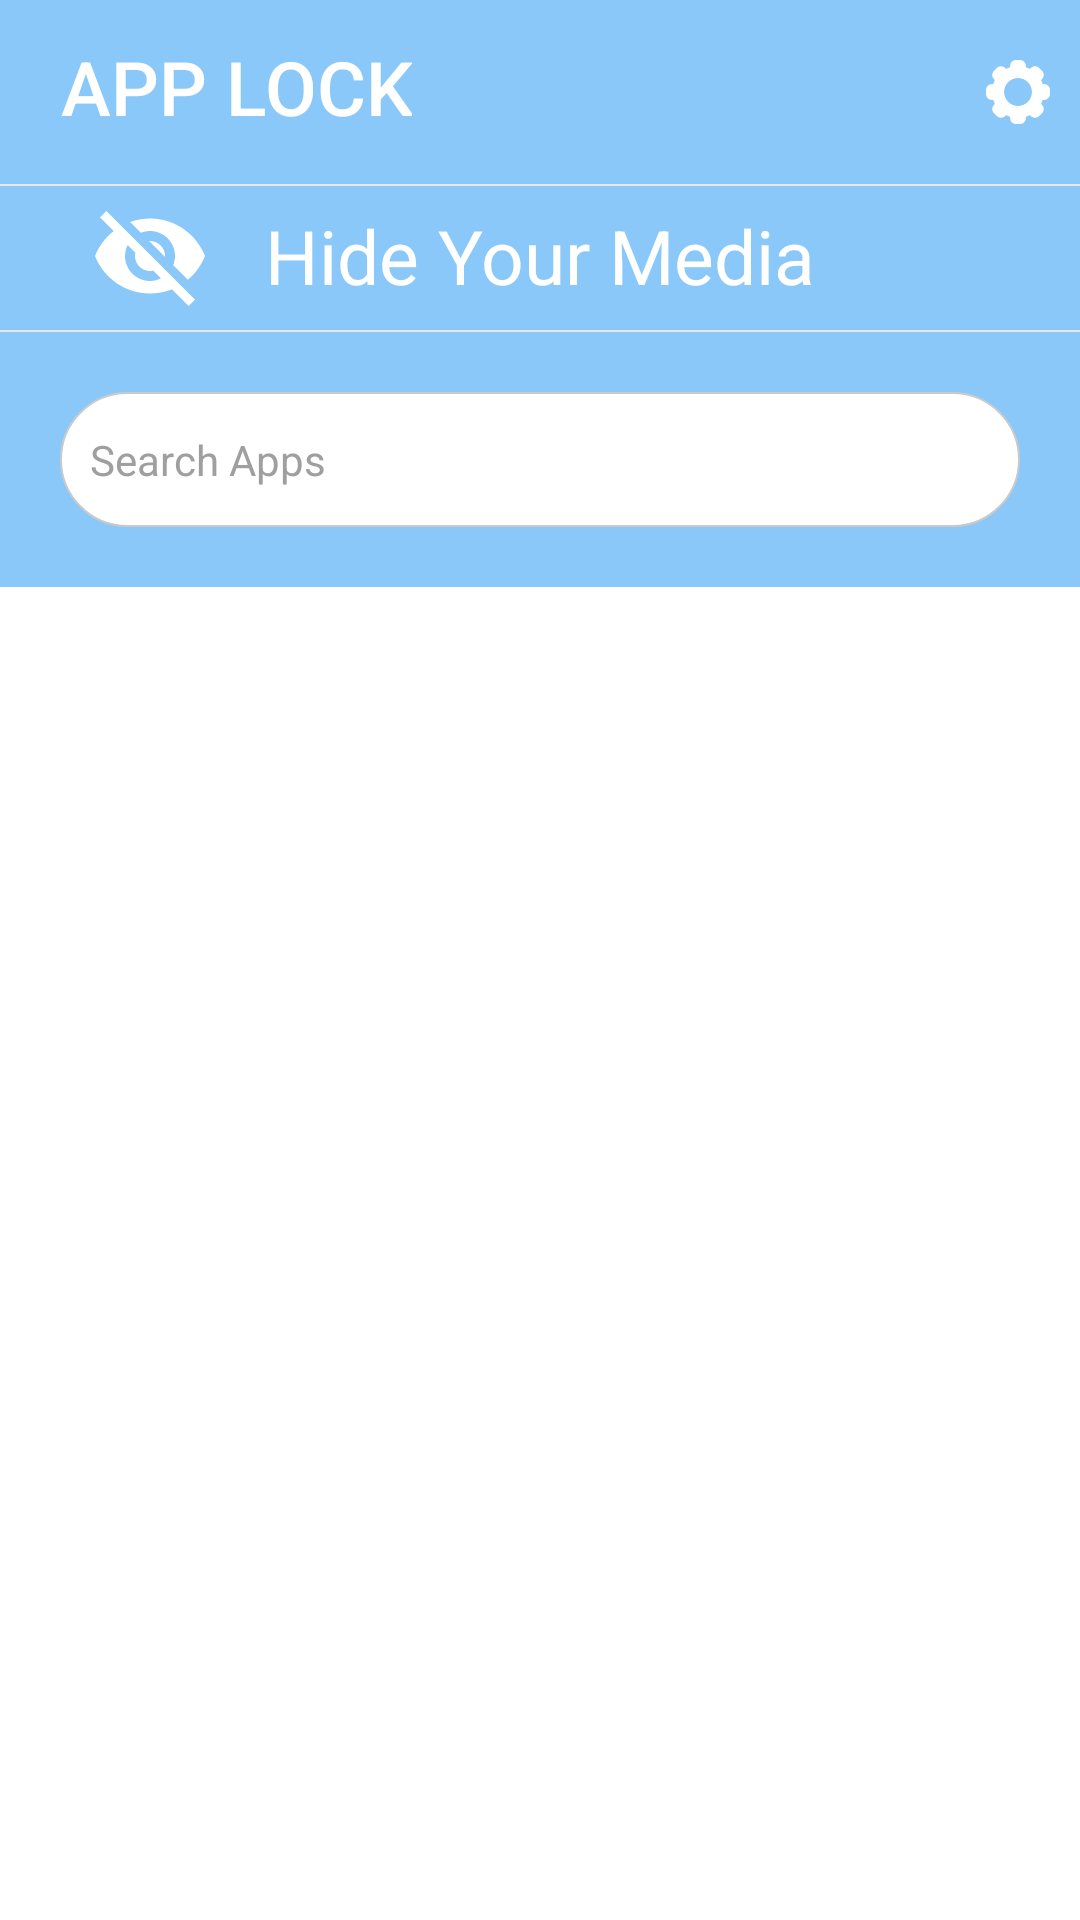

Locate icon controls on the screen. Image size 1080w x 1920h, boxes as box(x1, y1, x2, y2).
setting: box(986, 60, 1050, 124)
visibility off: box(95, 211, 205, 306)
